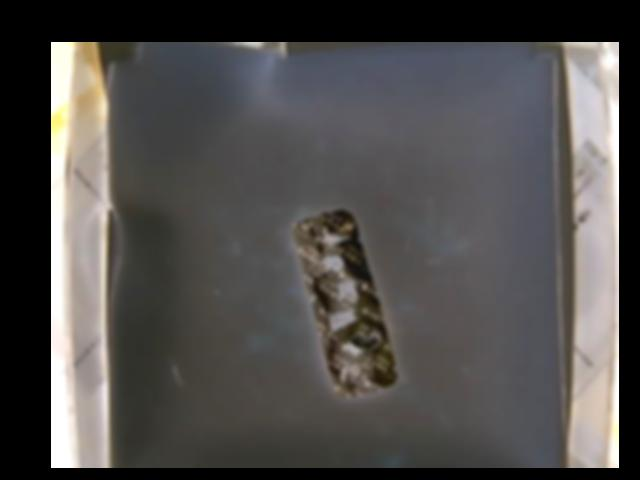Medicine: (290, 207, 397, 400)
